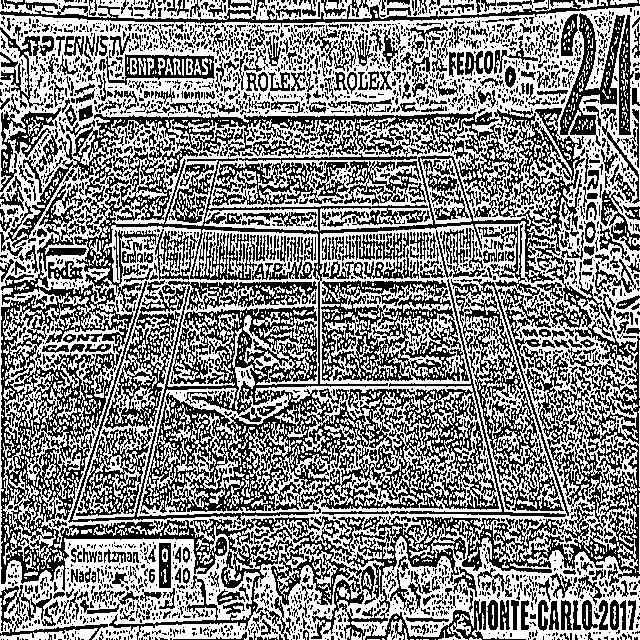left side: (70, 159, 219, 520), (418, 156, 568, 514)
player: (226, 312, 264, 424), (471, 74, 501, 124)
